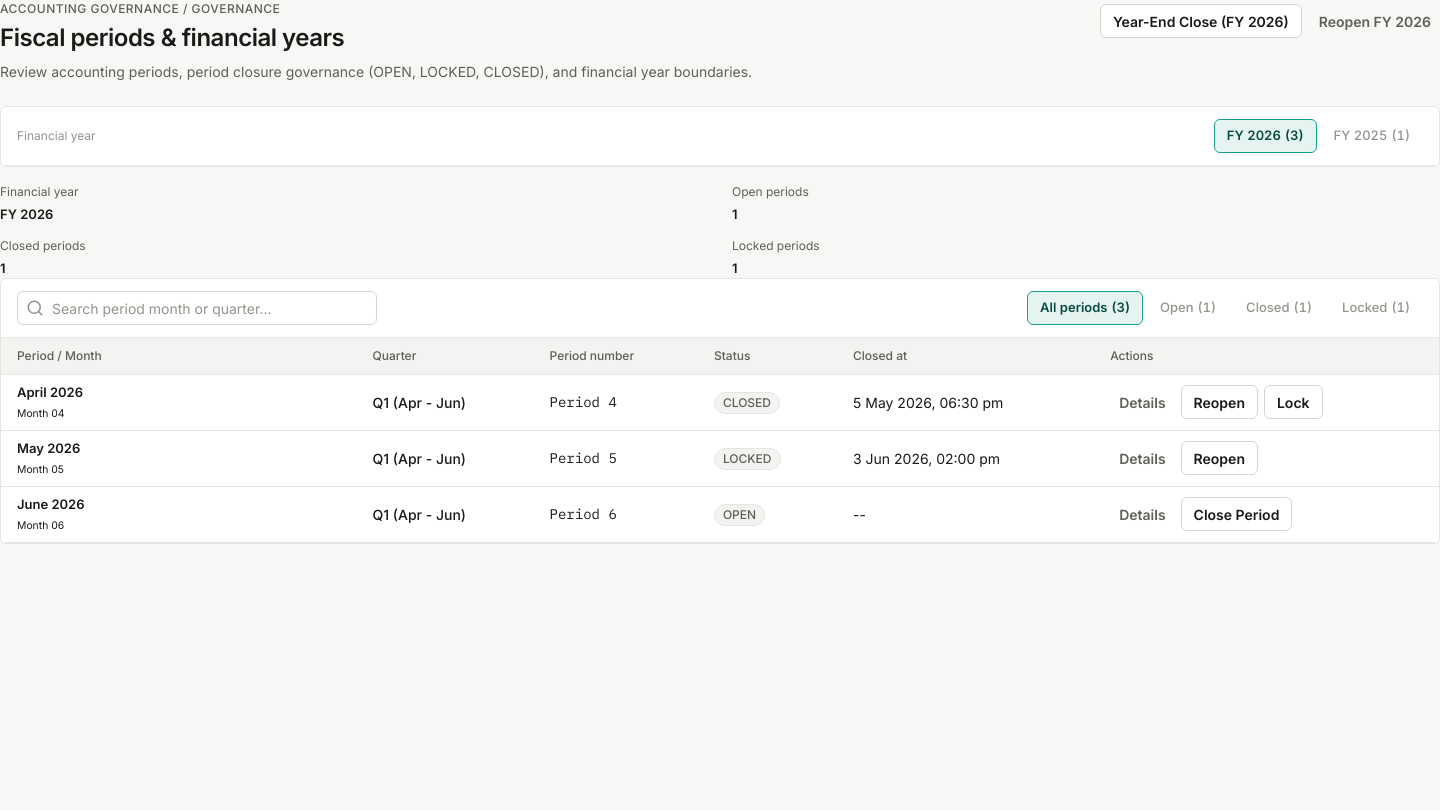
Test case: FiscalPeriodsPage › opens and closes period details modal
Expected: the text "April 2026" is shown, [17,384,83,400]
Click the button "Details" in the row of "April" at x=1142, y=402, box [1110,385,1175,419]
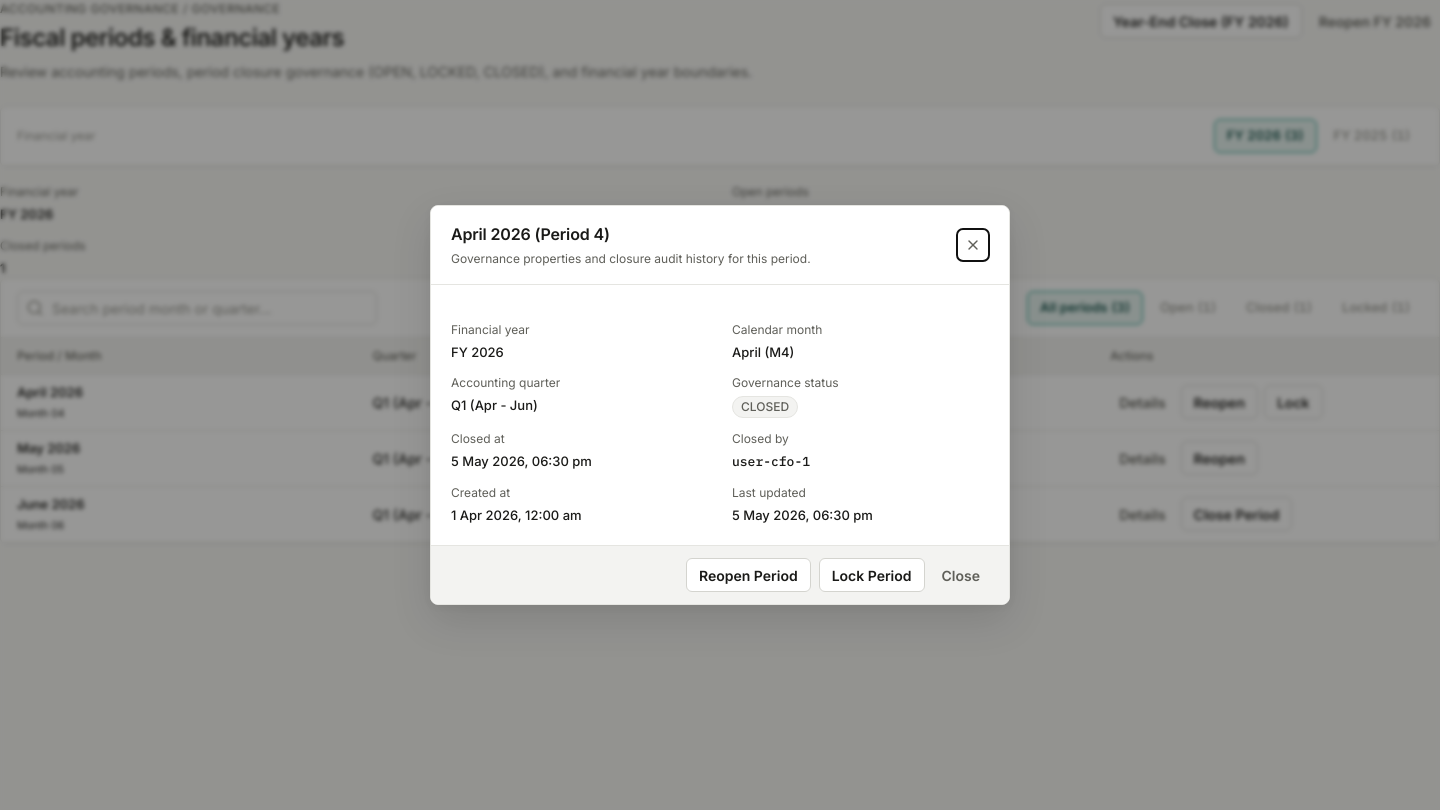
Result: the dialog is shown at [430,205,1010,605]
Result: the heading "April 2026 (Period 4)" is shown at [451,224,610,244]
Result: the text "Financial year" is shown at [451,322,530,337]
# Close modal
Click the button "Close" at x=961, y=575, box [932,558,989,592]
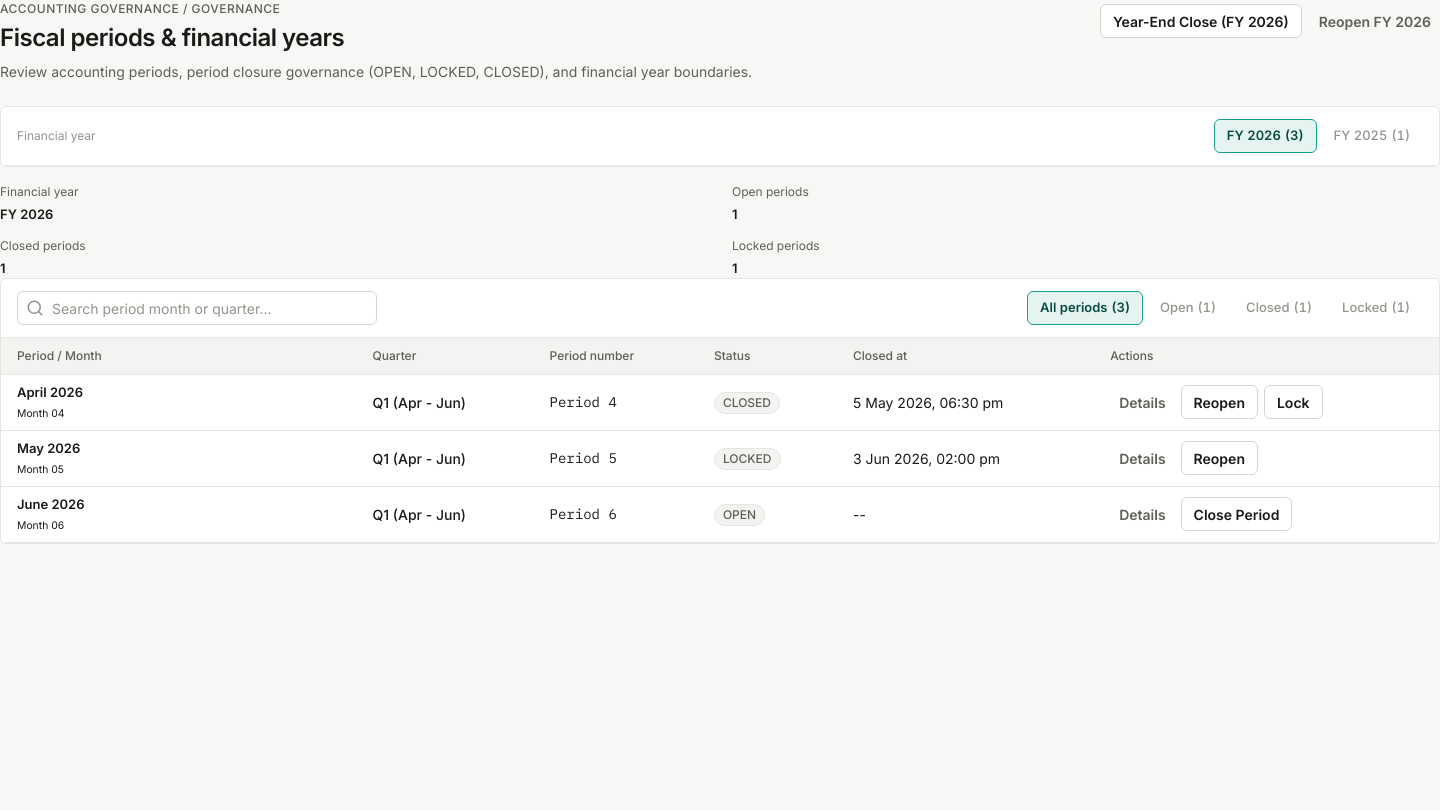
Result: the dialog is gone
